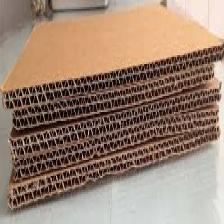cardboard: (0, 5, 224, 224)
